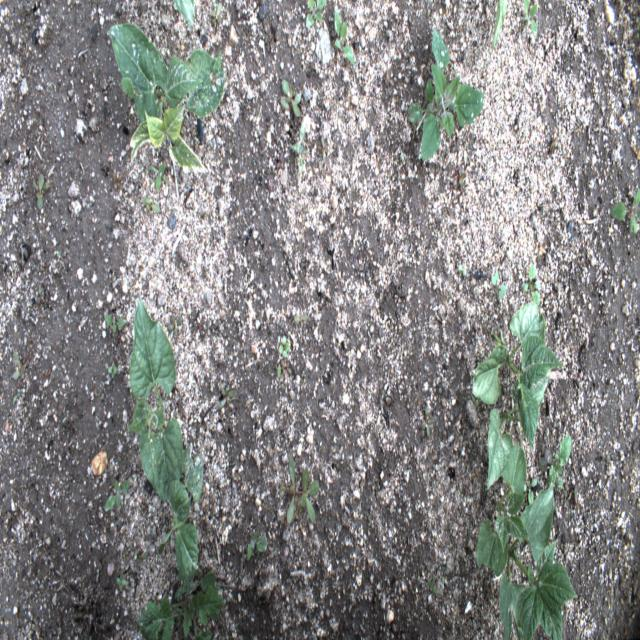crop: (474, 400, 577, 637), (106, 23, 227, 175), (468, 304, 564, 448), (126, 292, 186, 505), (402, 19, 487, 166), (133, 443, 204, 579), (138, 572, 230, 637)
weed: (282, 451, 324, 531), (540, 430, 574, 496), (329, 4, 359, 70), (276, 67, 304, 126), (610, 183, 638, 238), (99, 474, 133, 514), (485, 2, 508, 54), (288, 122, 310, 174), (242, 528, 270, 568), (28, 172, 52, 217), (300, 0, 327, 40), (272, 332, 294, 380), (520, 260, 543, 304), (169, 0, 196, 36), (514, 0, 544, 32), (212, 377, 239, 412), (6, 347, 32, 382), (424, 565, 448, 599), (316, 128, 338, 162), (490, 266, 509, 304), (146, 160, 170, 190), (570, 473, 584, 524), (140, 192, 163, 223), (102, 308, 126, 336), (418, 400, 434, 442), (448, 162, 468, 195), (112, 561, 133, 592), (291, 298, 308, 332), (208, 1, 226, 30), (382, 383, 398, 415), (110, 164, 126, 193), (454, 258, 471, 284), (104, 351, 118, 382), (8, 385, 23, 411), (272, 146, 286, 172), (450, 134, 467, 154), (51, 240, 65, 262)
